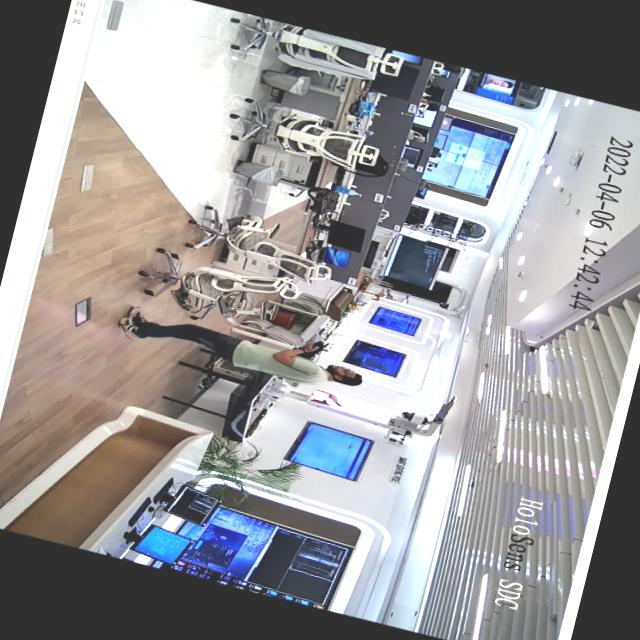long weapon: (286, 330, 332, 367)
